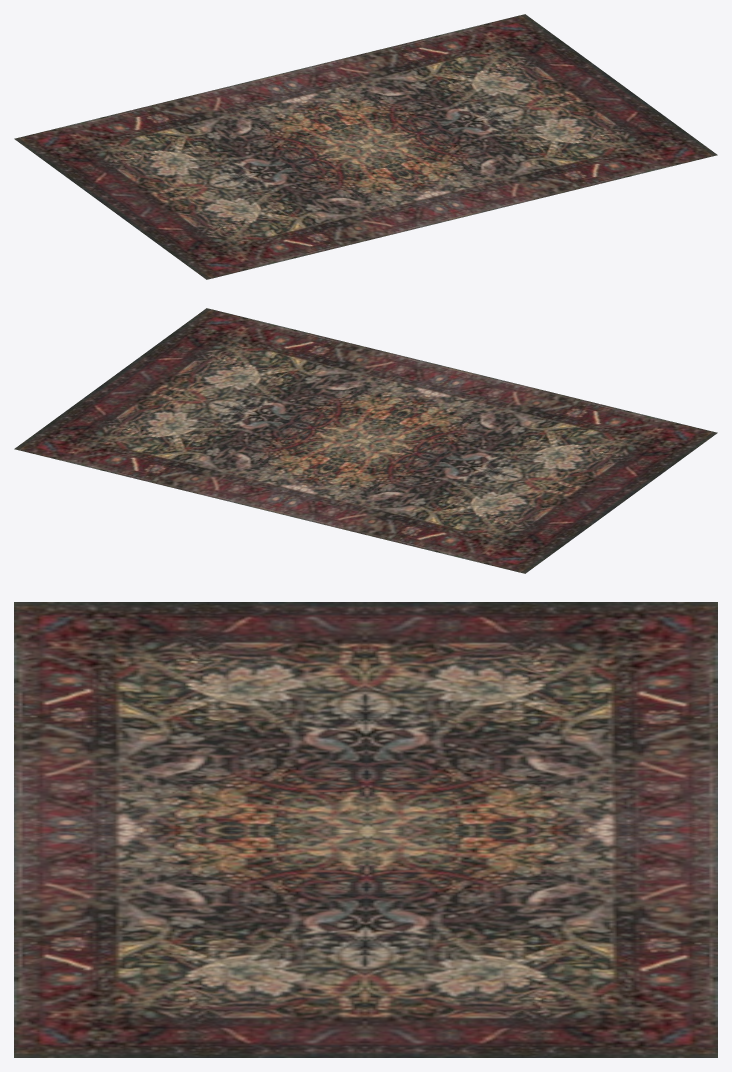
Rendered from rug_oriental.fbx.
3 renders of one model, top to bottom at view 1: azimuth 30°, elevation 25°; view 2: azimuth 150°, elevation 25°; view 3: azimuth 270°, elevation 25°, orthographic. The views are drawn at different scales.
Parts seen in each view (by area): view 1: rug_oriental; view 2: rug_oriental; view 3: rug_oriental.
Boxes of the visible parts, x1=… form: rug_oriental: x1=14, y1=14, x2=717, y2=279; rug_oriental: x1=14, y1=308, x2=717, y2=573; rug_oriental: x1=14, y1=602, x2=717, y2=1057.
Size of the model in its own units: 1321 by 0.000141 by 863.
Materials: 1 (1 with a texture image).
